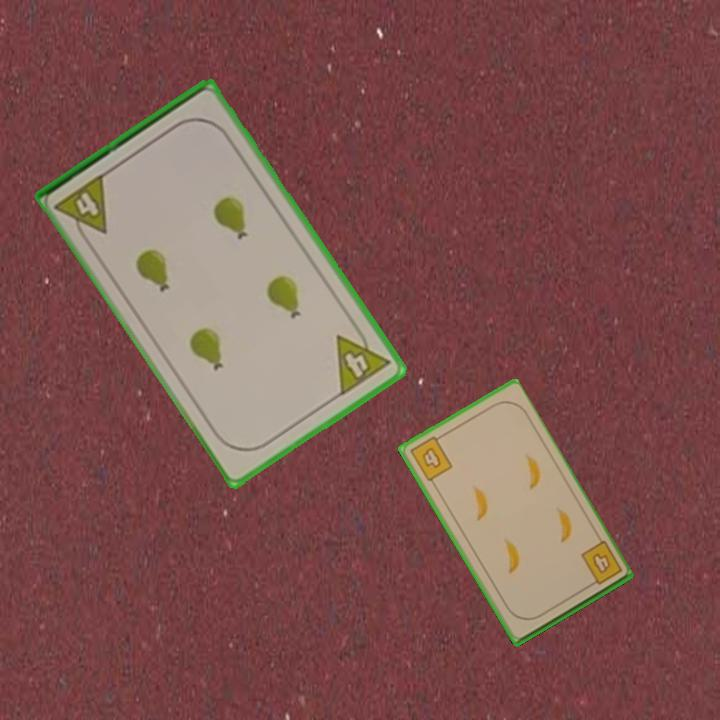4b: (406, 431, 455, 484), (577, 537, 625, 590)
4p: (332, 320, 393, 399), (51, 169, 111, 247)
